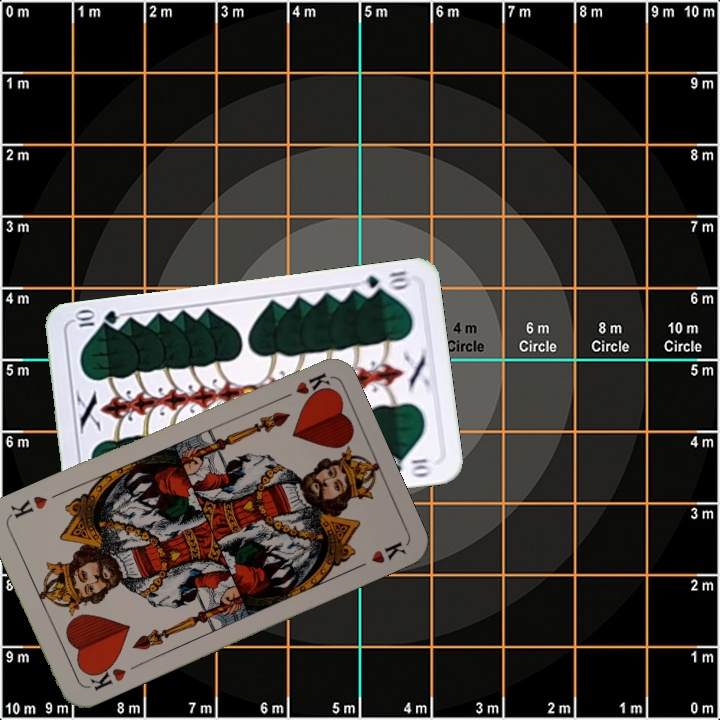G10: (354, 266, 414, 299)
HK: (274, 368, 332, 404), (83, 658, 128, 693)
